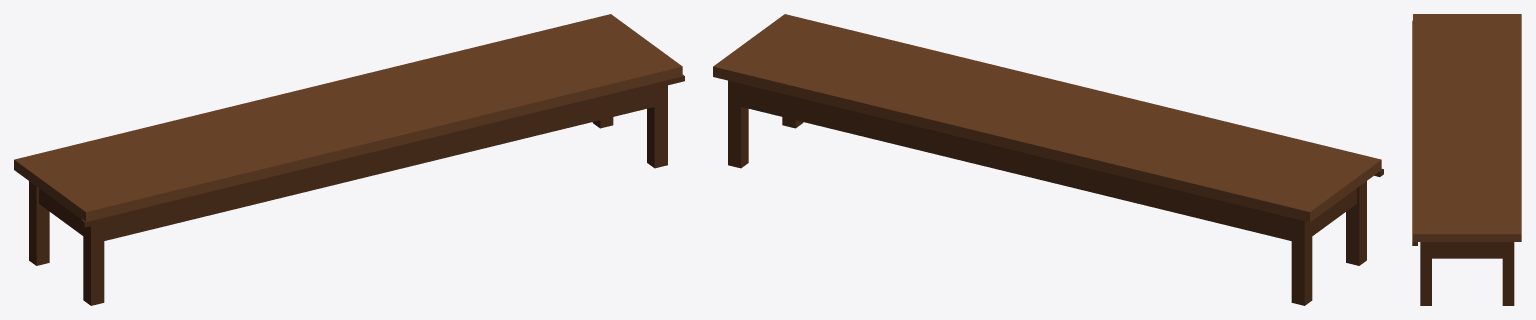
Rendered from reading_desk.glb.
The picture shows the model from 3 angles, left to right: view 1: azimuth 30°, elevation 25°; view 2: azimuth 150°, elevation 25°; view 3: azimuth 270°, elevation 25°; orthographic projection. The views are drawn at different scales.
Visible parts, largest first — view 1: reading_desk2; view 2: reading_desk2; view 3: reading_desk2.
Boxes of the visible parts, x1,y1,x2,y2 form: reading_desk2: [14, 14, 684, 305]; reading_desk2: [713, 14, 1383, 305]; reading_desk2: [1412, 14, 1521, 305].
Bounding box in the file's own units: 7.24 × 1.15 × 1.51.
